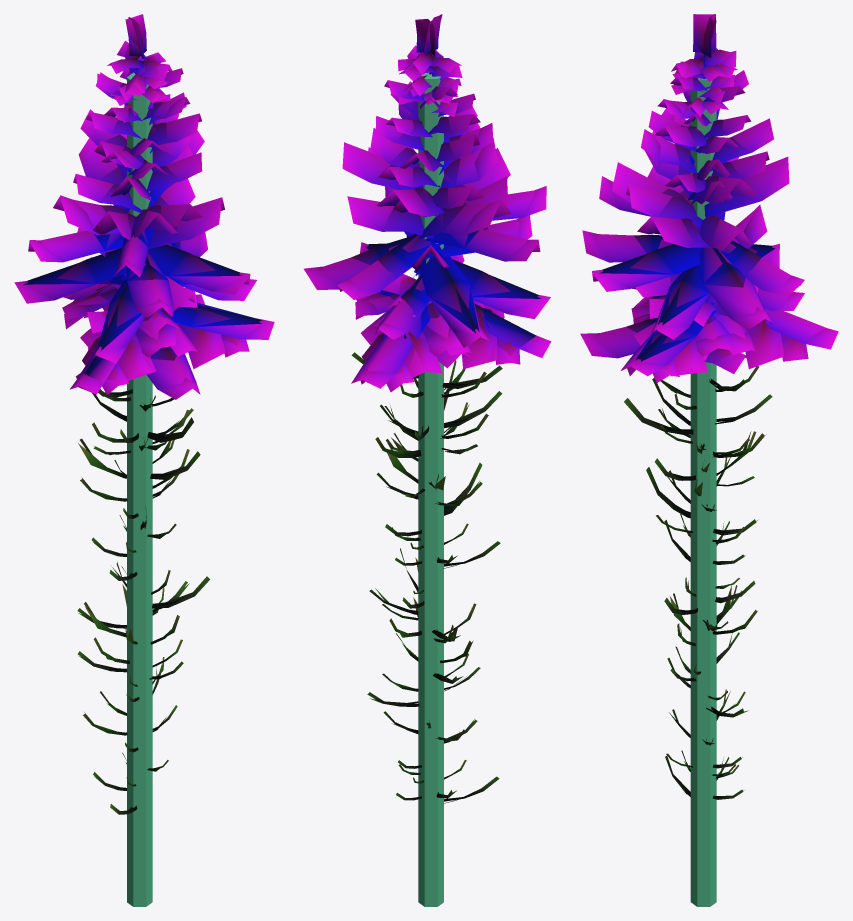
The model's file is pine_radiata_forest.dae.
3 views of the same model, side by side, from view 1: azimuth 30°, elevation 25°; view 2: azimuth 150°, elevation 25°; view 3: azimuth 270°, elevation 25° (orthographic).
Visible parts, largest first — view 1: pine_radiata_forest_a170, pine_radiata_forest_a520, Colmesh-1; view 2: pine_radiata_forest_a170, pine_radiata_forest_a520, Colmesh-1; view 3: pine_radiata_forest_a170, pine_radiata_forest_a520, Colmesh-1.
Part boxes in pixels (bbox=[...]): pine_radiata_forest_a170: bbox=[23, 14, 262, 814]; pine_radiata_forest_a520: bbox=[14, 14, 274, 814]; Colmesh-1: bbox=[127, 72, 152, 906]; pine_radiata_forest_a170: bbox=[320, 14, 541, 803]; pine_radiata_forest_a520: bbox=[304, 14, 551, 801]; Colmesh-1: bbox=[418, 73, 443, 906]; pine_radiata_forest_a170: bbox=[592, 14, 826, 799]; pine_radiata_forest_a520: bbox=[580, 14, 838, 798]; Colmesh-1: bbox=[690, 78, 716, 906].
Bounding box in the file's own units: 4.74 × 4.99 × 18.85.
